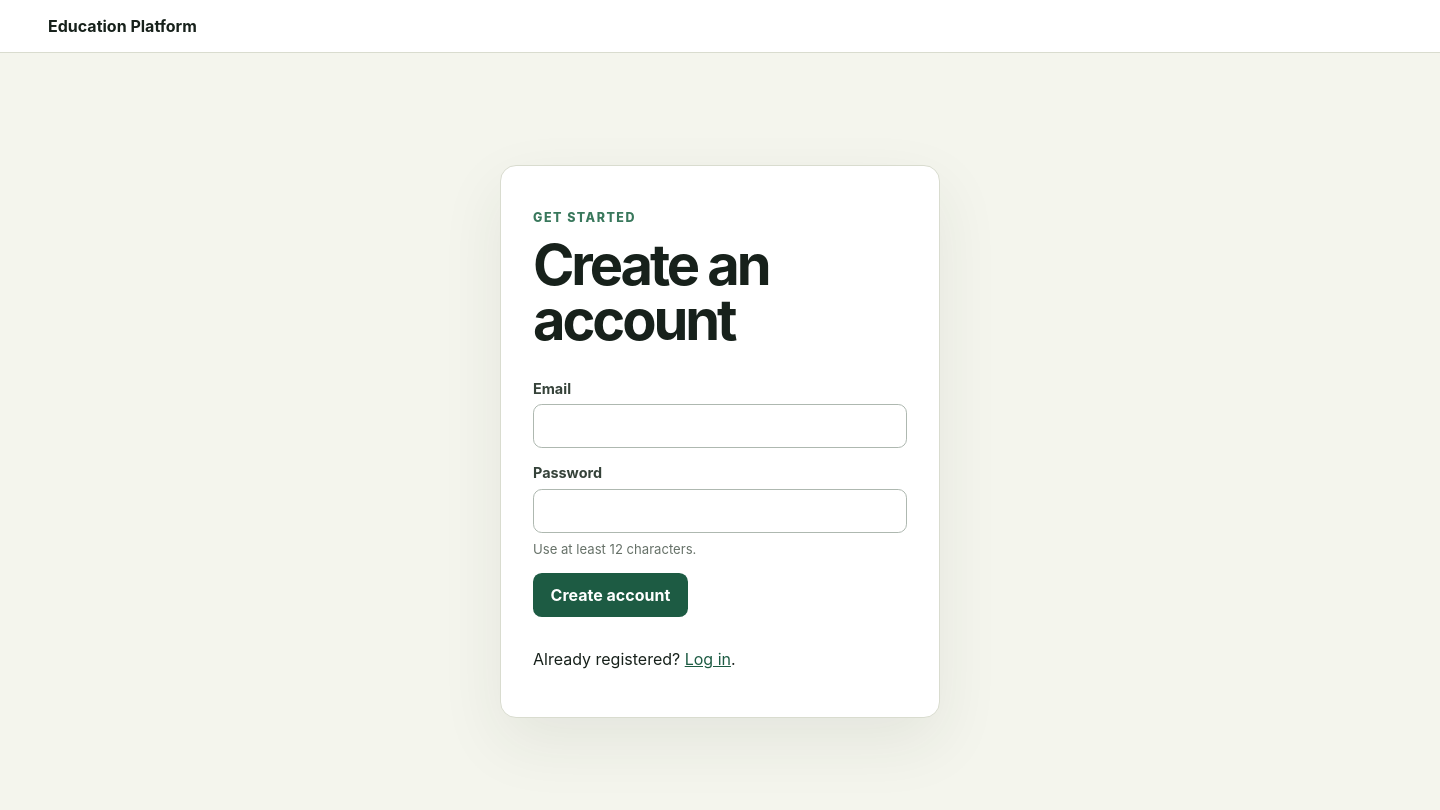
authentication UI › does not authenticate when automatic login fails after registration
This screenshot has width=1440, height=810.
Step 1. Type "person@example.com" into the field labelled "Email" → (720, 426), box [533,404,907,448]
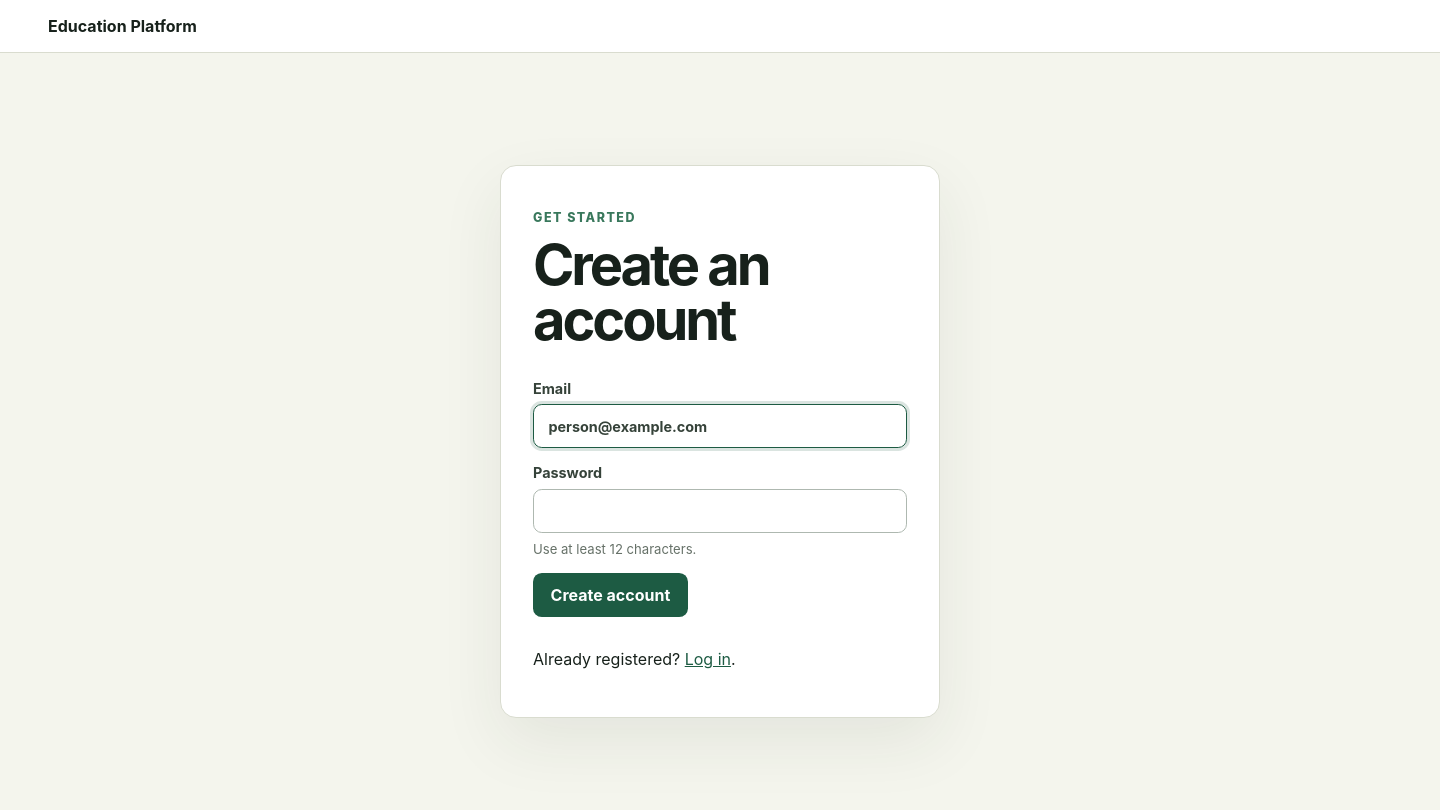
Step 2. Type "a secure password" into the password field labelled "Password" → (720, 511), box [533,489,907,533]
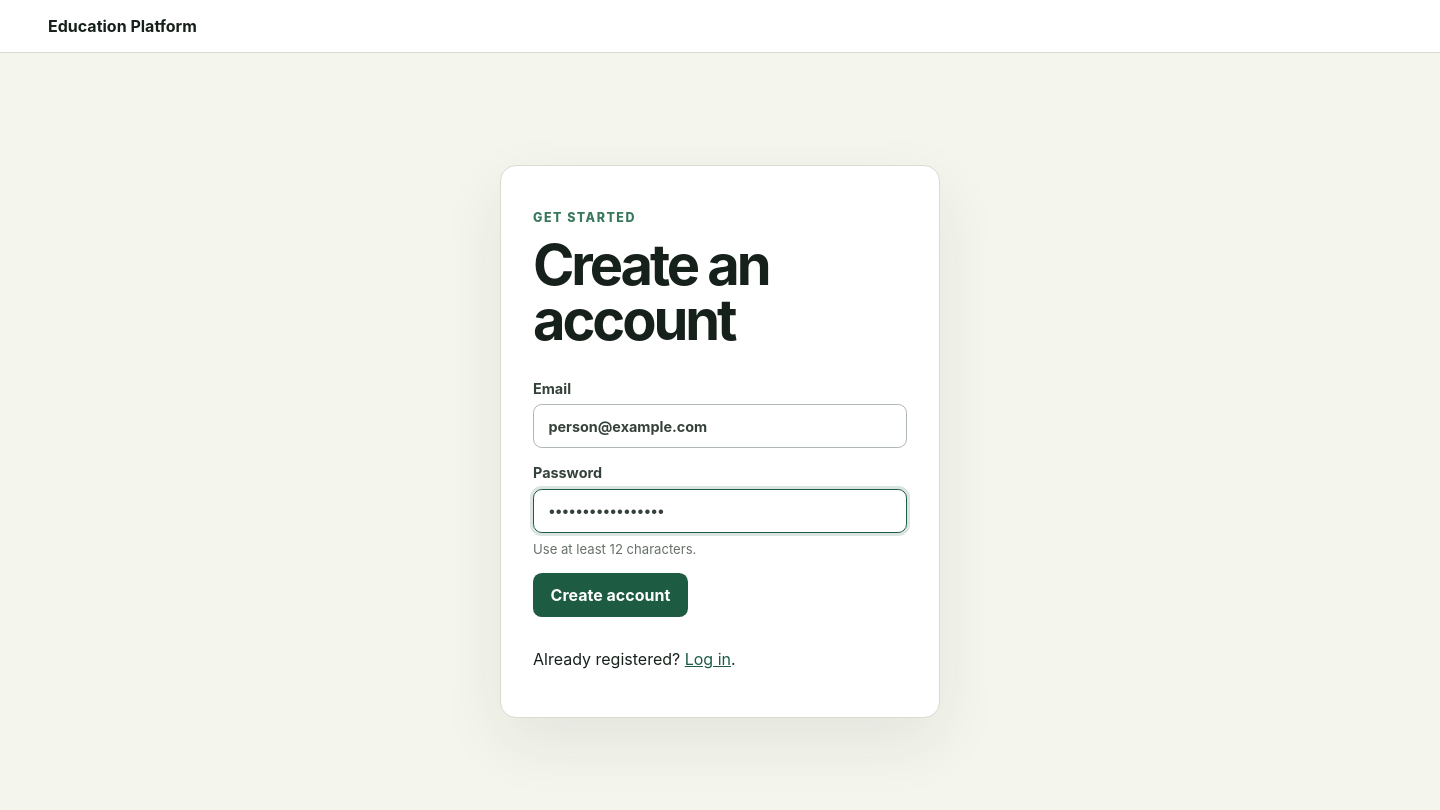
Step 3. Click the button "Create account" → click(610, 595), box [533,573,688,617]
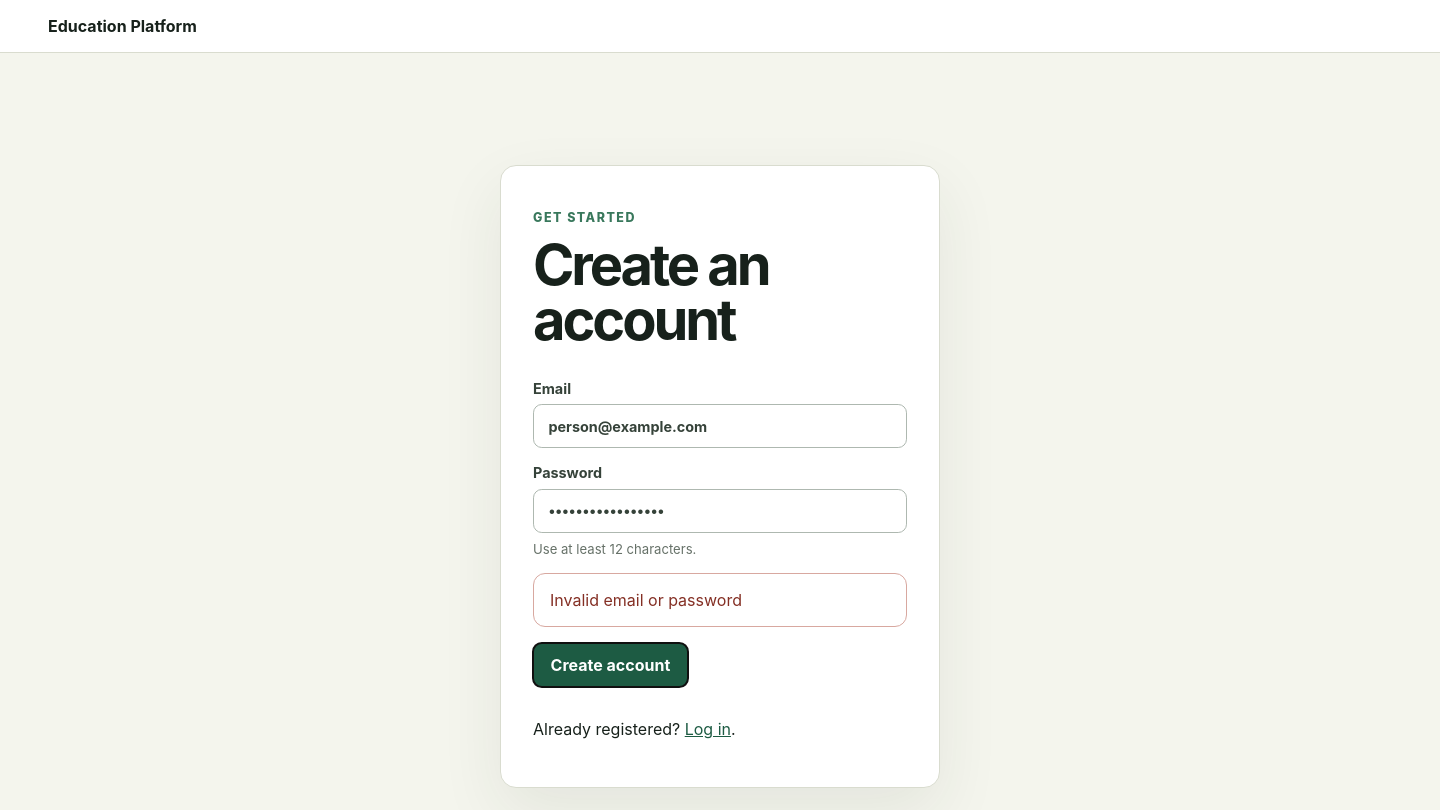
Expected: the heading "Create an account" is shown, [533,231,768,354]
Expected: the message reads "Invalid email or password", [550,590,742,610]
